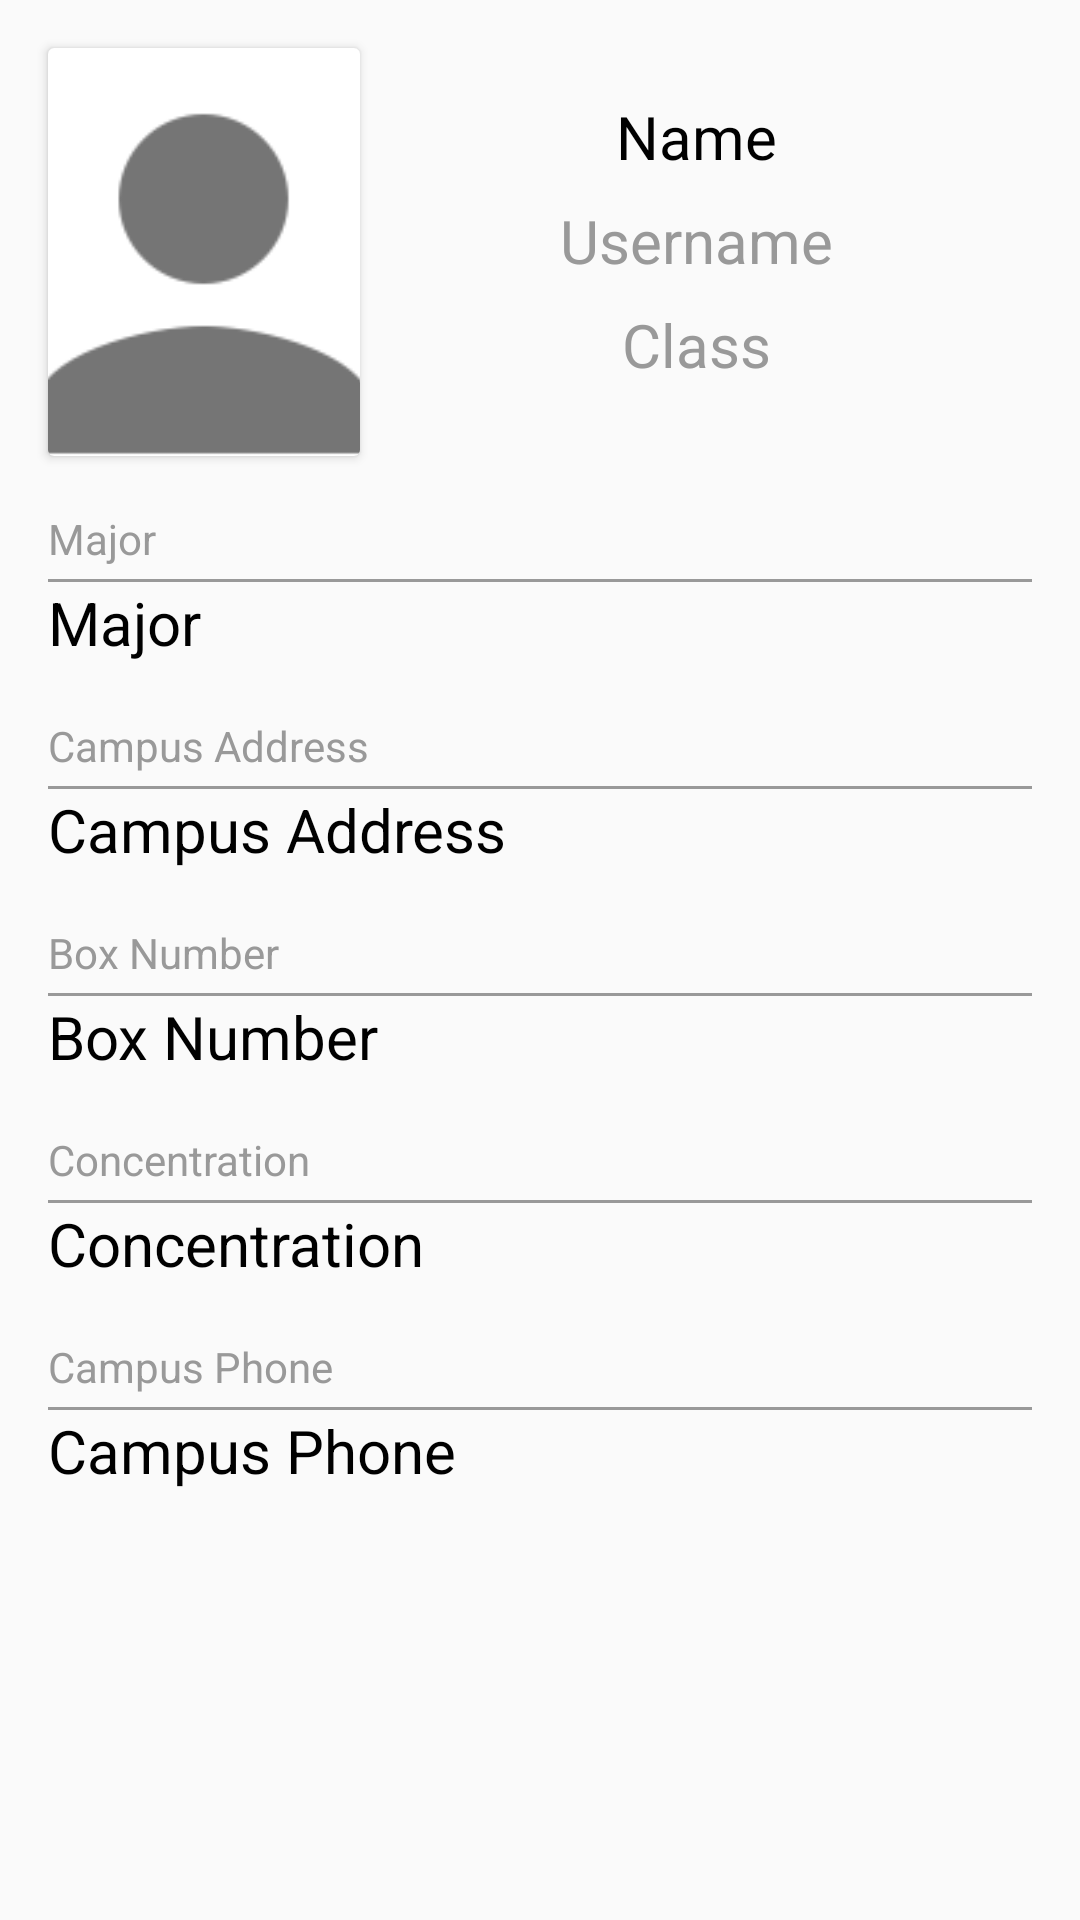

Locate icon controls on the screen. Image size 1080 × 1920, boxes as (x1,y1,x2,y2).
person: (48,114,360,454)
